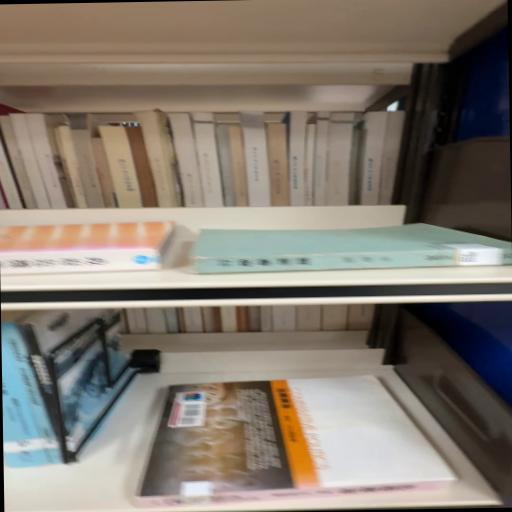flat: (135, 376, 459, 510), (193, 224, 512, 275)
